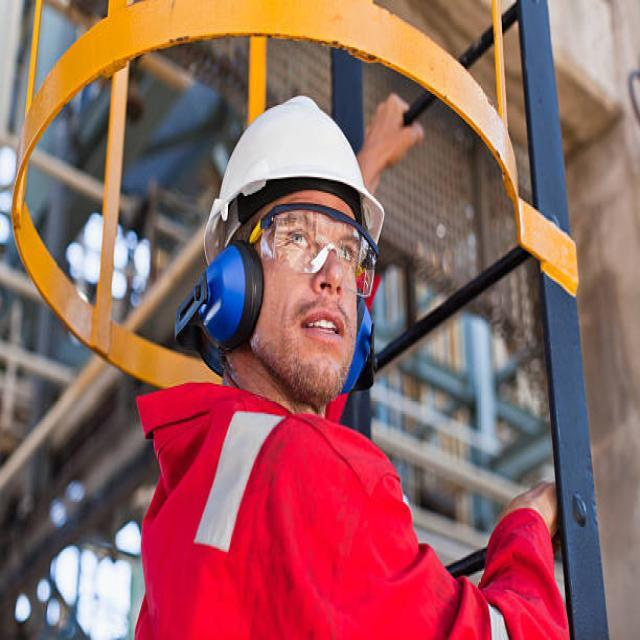white helmet: (202, 89, 385, 263)
